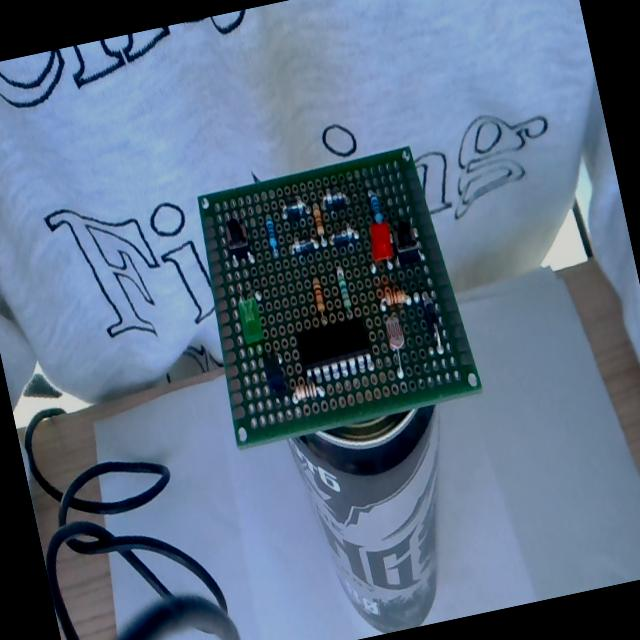IC: (292, 310, 376, 384)
cds: (382, 308, 413, 378)
diode: (420, 290, 445, 354), (328, 223, 360, 251), (280, 196, 310, 223), (321, 188, 349, 215), (289, 235, 317, 258)
led: (233, 284, 270, 348), (366, 218, 396, 264)
resistor: (306, 268, 358, 324), (378, 280, 411, 310), (289, 376, 321, 404), (335, 266, 353, 314), (311, 204, 327, 243), (264, 216, 280, 254), (368, 192, 383, 222)
switch: (221, 212, 256, 268), (390, 217, 422, 267)
transistor: (257, 346, 292, 404)
